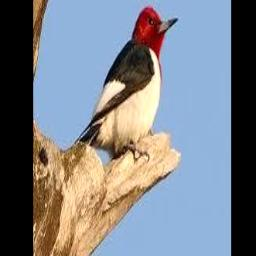Woodpecker: (79, 7, 178, 153)
